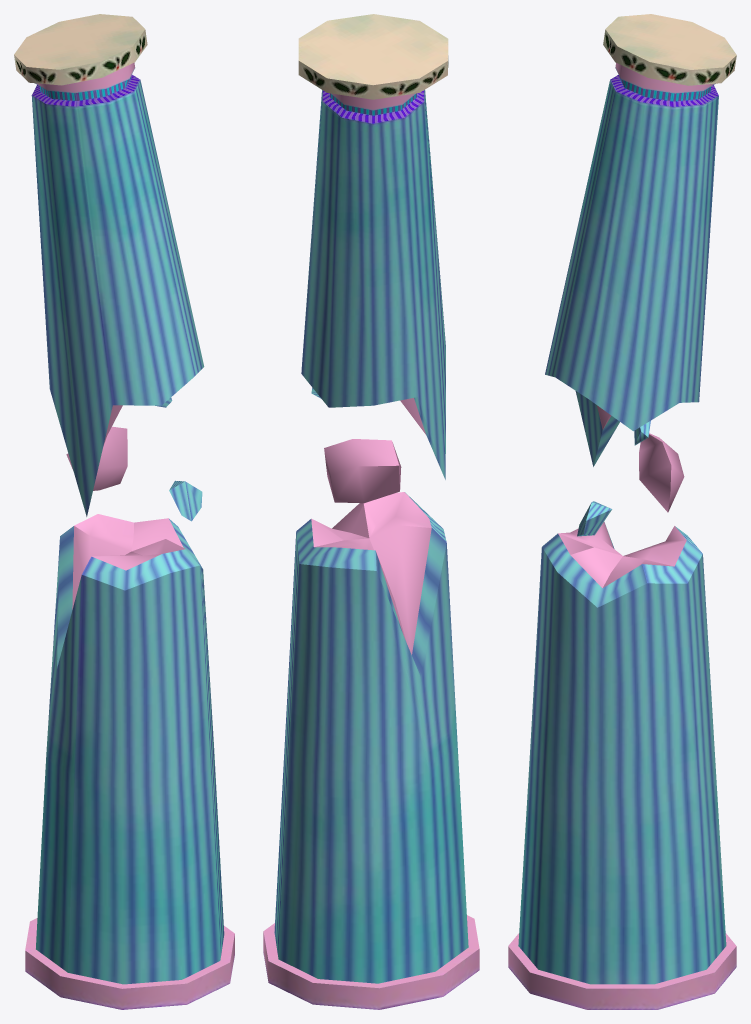
File: column-vapor-03.glb
The picture shows the model from 3 angles, left to right: view 1: azimuth 30°, elevation 25°; view 2: azimuth 150°, elevation 25°; view 3: azimuth 270°, elevation 25°; orthographic projection. The views are drawn at different scales.
Parts seen in each view (by area): view 1: Column_Vapor_03; view 2: Column_Vapor_03; view 3: Column_Vapor_03.
Boxes of the visible parts, box(x1,y1,x2,y2) form: Column_Vapor_03: box(14, 14, 234, 1009); Column_Vapor_03: box(263, 14, 479, 1009); Column_Vapor_03: box(508, 14, 736, 1009).
Size of the model in its own units: 1.71 by 8.54 by 1.92.
Materials: 1 (1 with a texture image).
